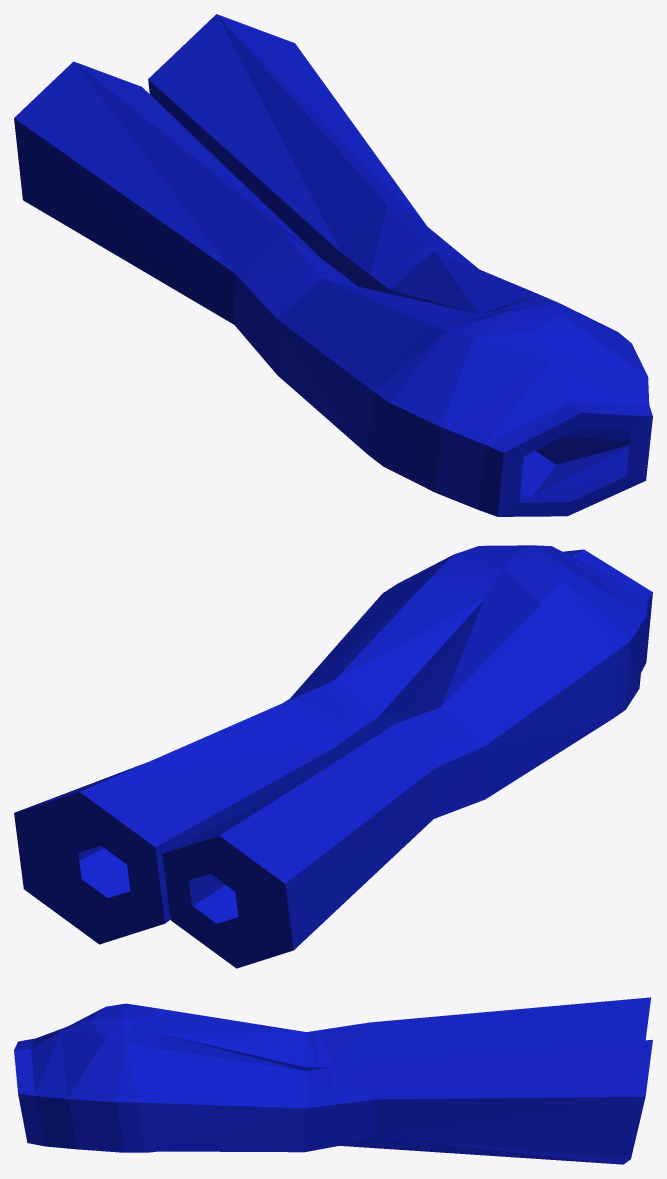
File: flares.obj
3 views of the same model, one above another, from view 1: azimuth 30°, elevation 25°; view 2: azimuth 150°, elevation 25°; view 3: azimuth 270°, elevation 25° (orthographic). The views are drawn at different scales.
Visible parts, largest first — view 1: pants2; view 2: pants2; view 3: pants2.
Boxes of the visible parts, box(x1,y1,x2,y2) form: pants2: box(14, 14, 652, 516); pants2: box(14, 545, 652, 968); pants2: box(14, 997, 652, 1164).
Size of the model in its own units: 2.55 by 1.51 by 6.97.
